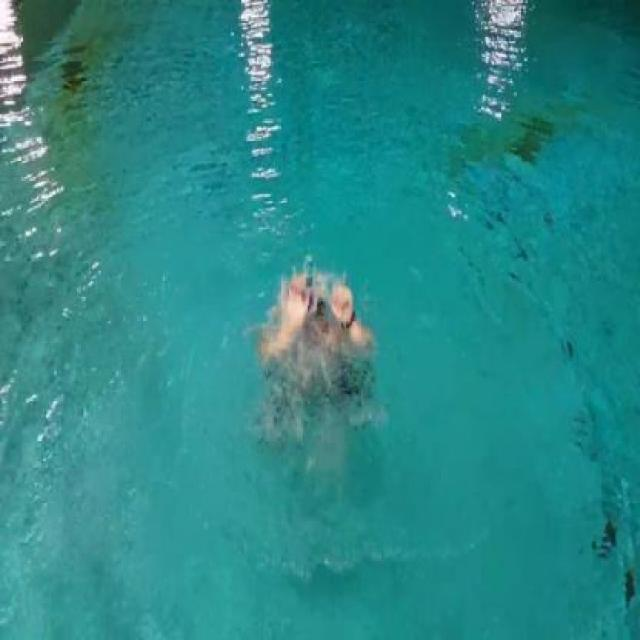Out of Water: (250, 259, 382, 376)
